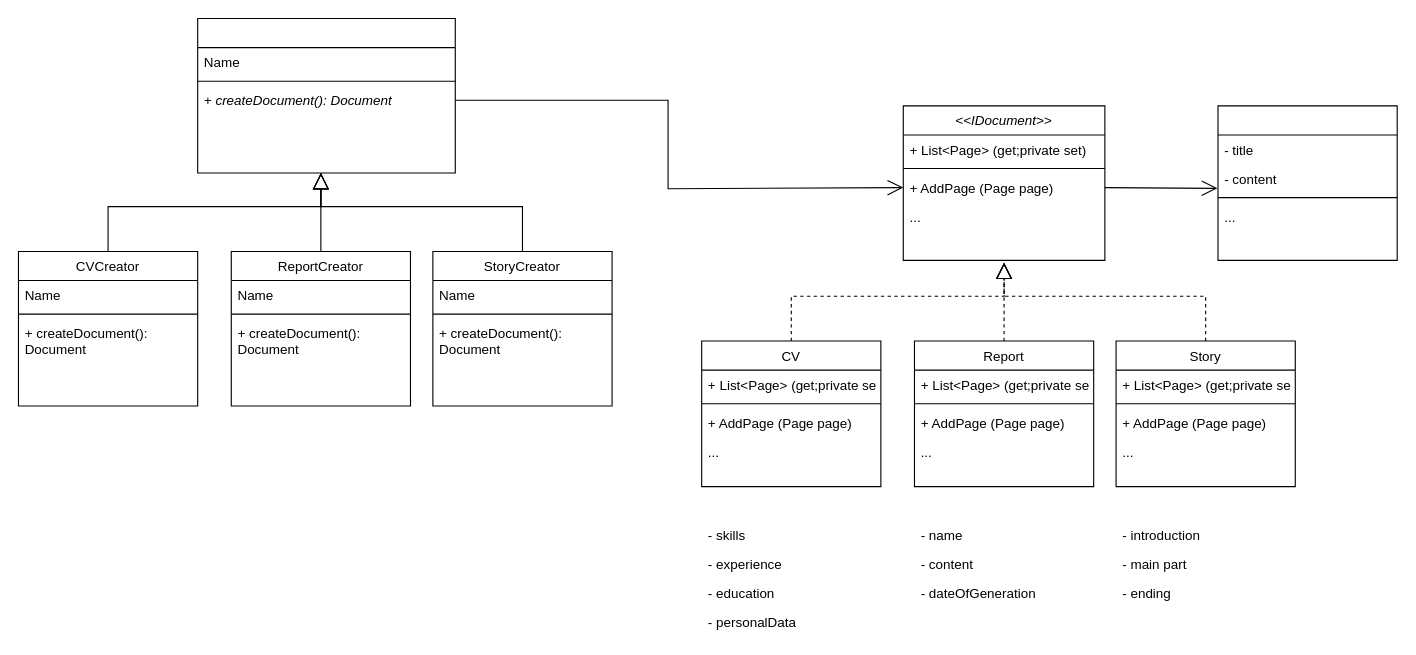
Image size: 1416x655. Some labels were removed from this diagram. The box of each missing label's shape, as (x1, y1, x2, y2) in pixels:
DocumentCreator: (197, 17, 455, 173)
Page: (1217, 105, 1397, 260)
